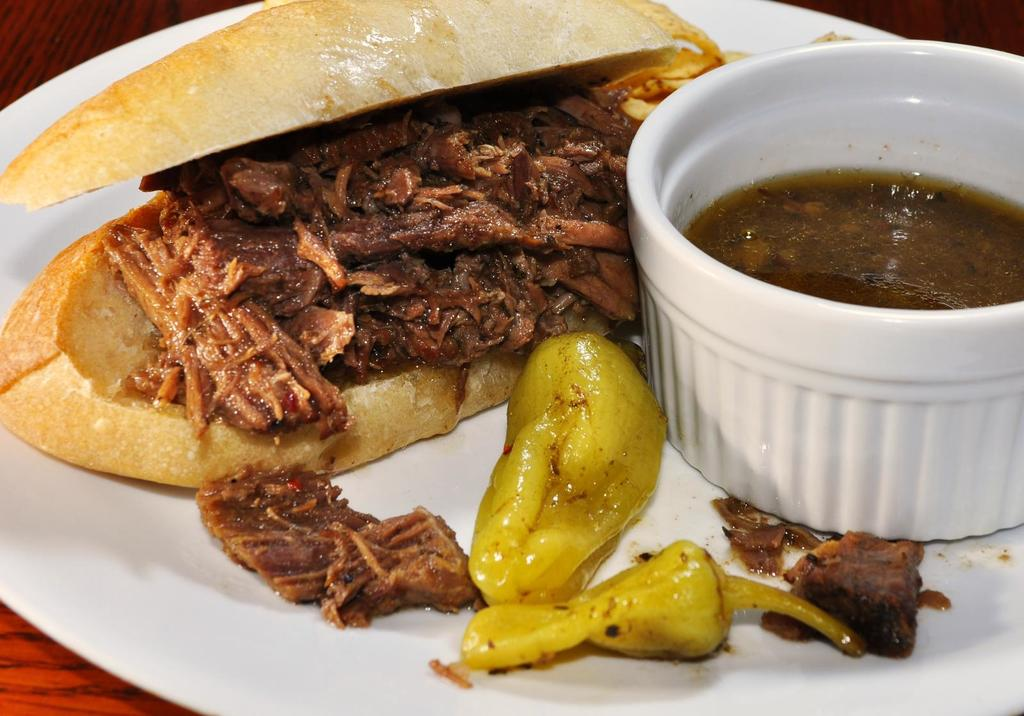sandwich: (0, 0, 726, 491)
